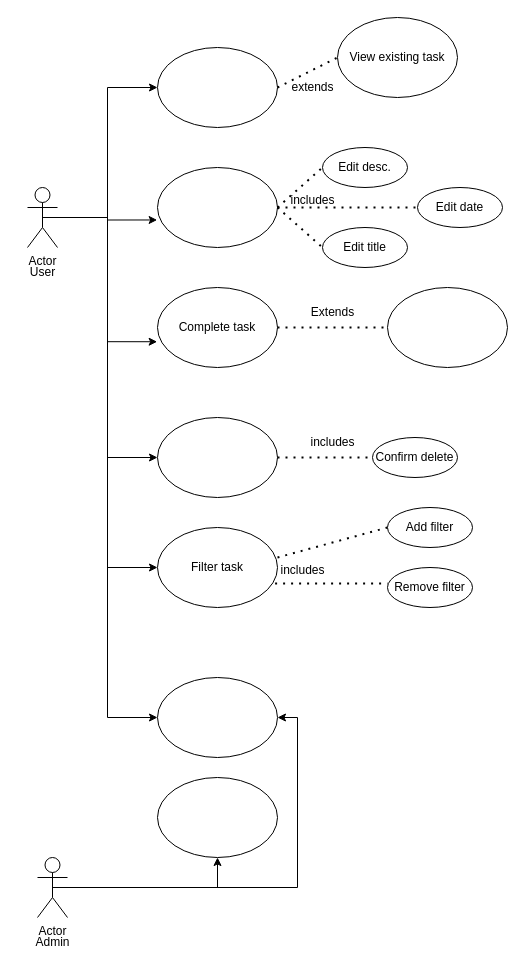
Some shapes in this 525 by 975 pixel diagram are drawn without their labels. The centre of each missing label's shape, as x and y in pixels:
"Create a task" belongs at (217,87).
"Create account" belongs at (217,717).
"Delete task" belongs at (217,457).
"Edit a task" belongs at (217,207).
"Manage account" belongs at (217,817).
"Unmark task as complete" belongs at (447,327).
